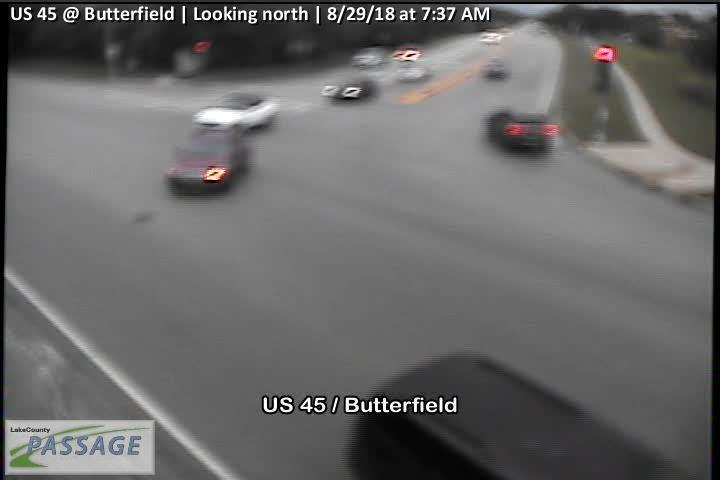Sedan: (162, 126, 248, 195), (486, 108, 561, 155), (193, 91, 279, 131)
